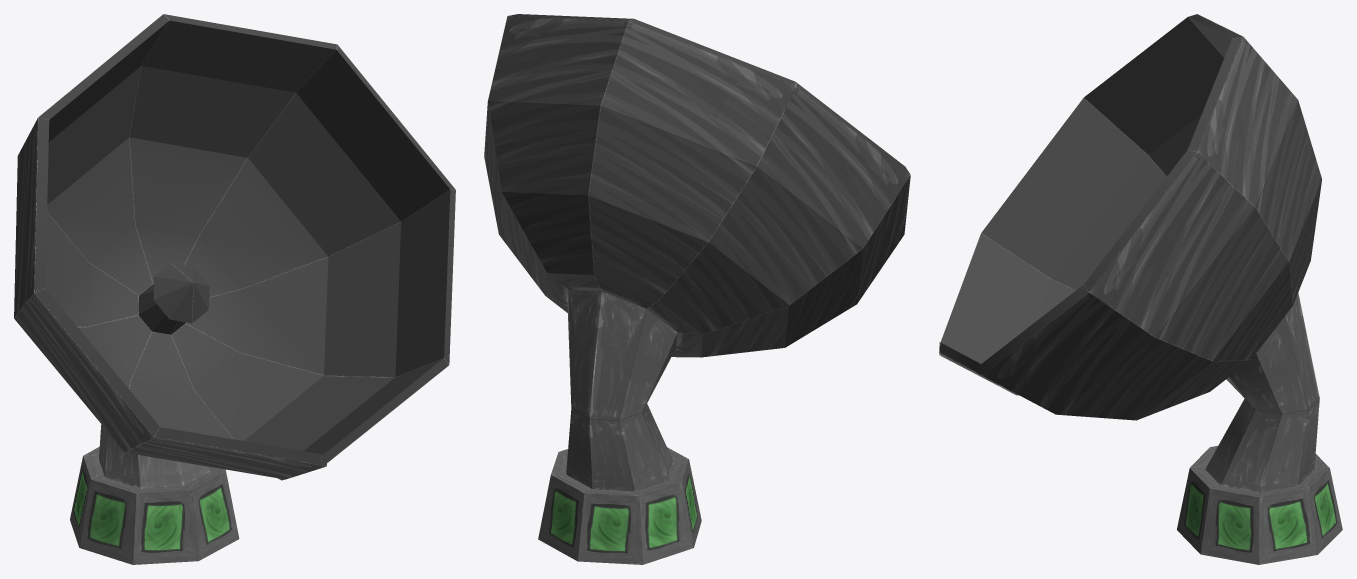
File: dishFBX.fbx
3 renders of one model, left to right at view 1: azimuth 30°, elevation 25°; view 2: azimuth 150°, elevation 25°; view 3: azimuth 270°, elevation 25°, orthographic. The views are drawn at different scales.
Visible parts, largest first — view 1: dishLowPoly2; view 2: dishLowPoly2; view 3: dishLowPoly2.
Boxes of the visible parts, x1,y1,x2,y2 form: dishLowPoly2: (14,14,455,564); dishLowPoly2: (484,14,910,564); dishLowPoly2: (939,14,1342,564).
Size of the model in its own units: 1.88 by 2.21 by 1.64.
